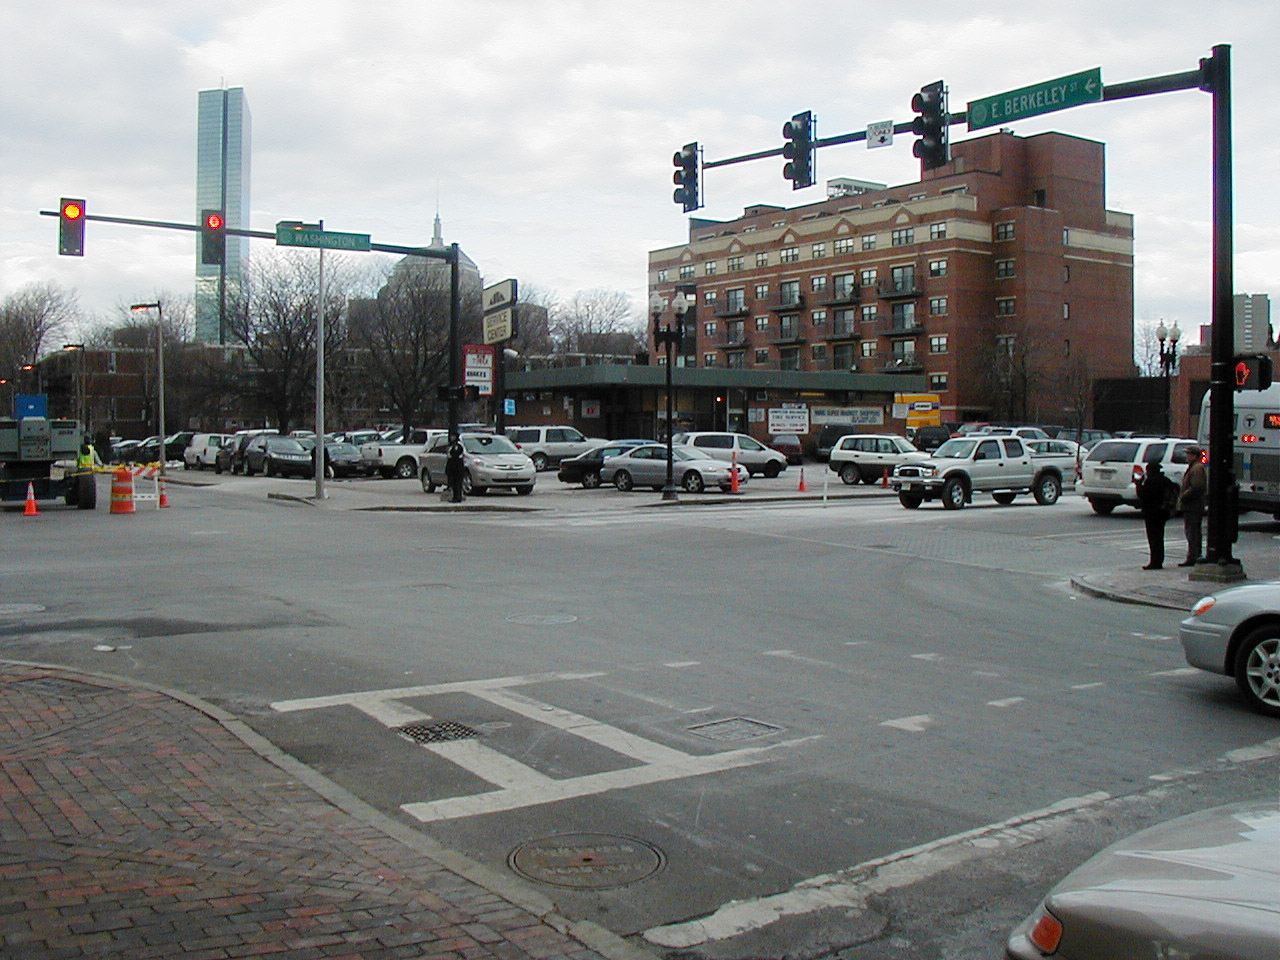traffic_light: (56, 196, 87, 258), (199, 207, 227, 267)
